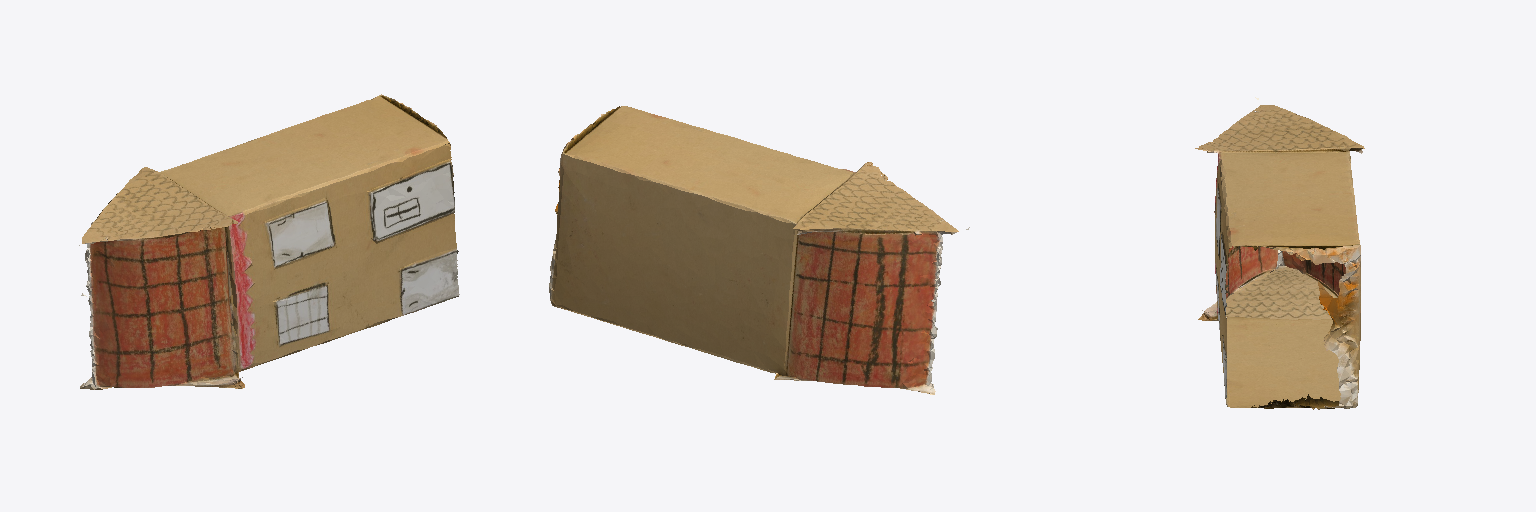
3 renders of one model, left to right at view 1: azimuth 30°, elevation 25°; view 2: azimuth 150°, elevation 25°; view 3: azimuth 270°, elevation 25°, orthographic.
Size of the model in its own units: 10.54 by 5 by 4.08.
Materials: 1 (1 with a texture image).